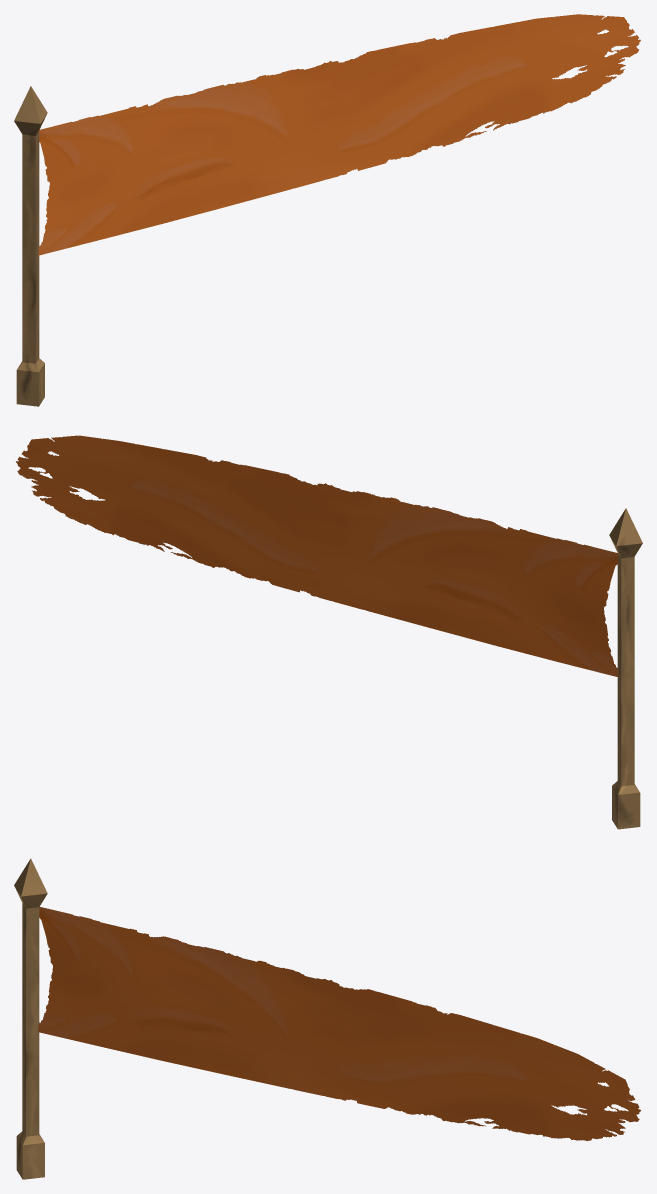
The model's file is flag_pole.fbx.
3 renders of one model, top to bottom at view 1: azimuth 30°, elevation 25°; view 2: azimuth 150°, elevation 25°; view 3: azimuth 330°, elevation 25°, orthographic.
Visible parts, largest first — view 1: Cloth, Pole; view 2: Cloth, Pole; view 3: Cloth, Pole.
Part boxes in pixels (box(x1,y1,x2,y2)): Cloth: box(39, 14, 640, 255); Pole: box(14, 86, 47, 406); Cloth: box(16, 435, 617, 676); Pole: box(609, 508, 642, 829); Cloth: box(38, 907, 640, 1140); Pole: box(14, 858, 47, 1179).
Bounding box in the file's own units: 1054 × 505 × 56.57.
